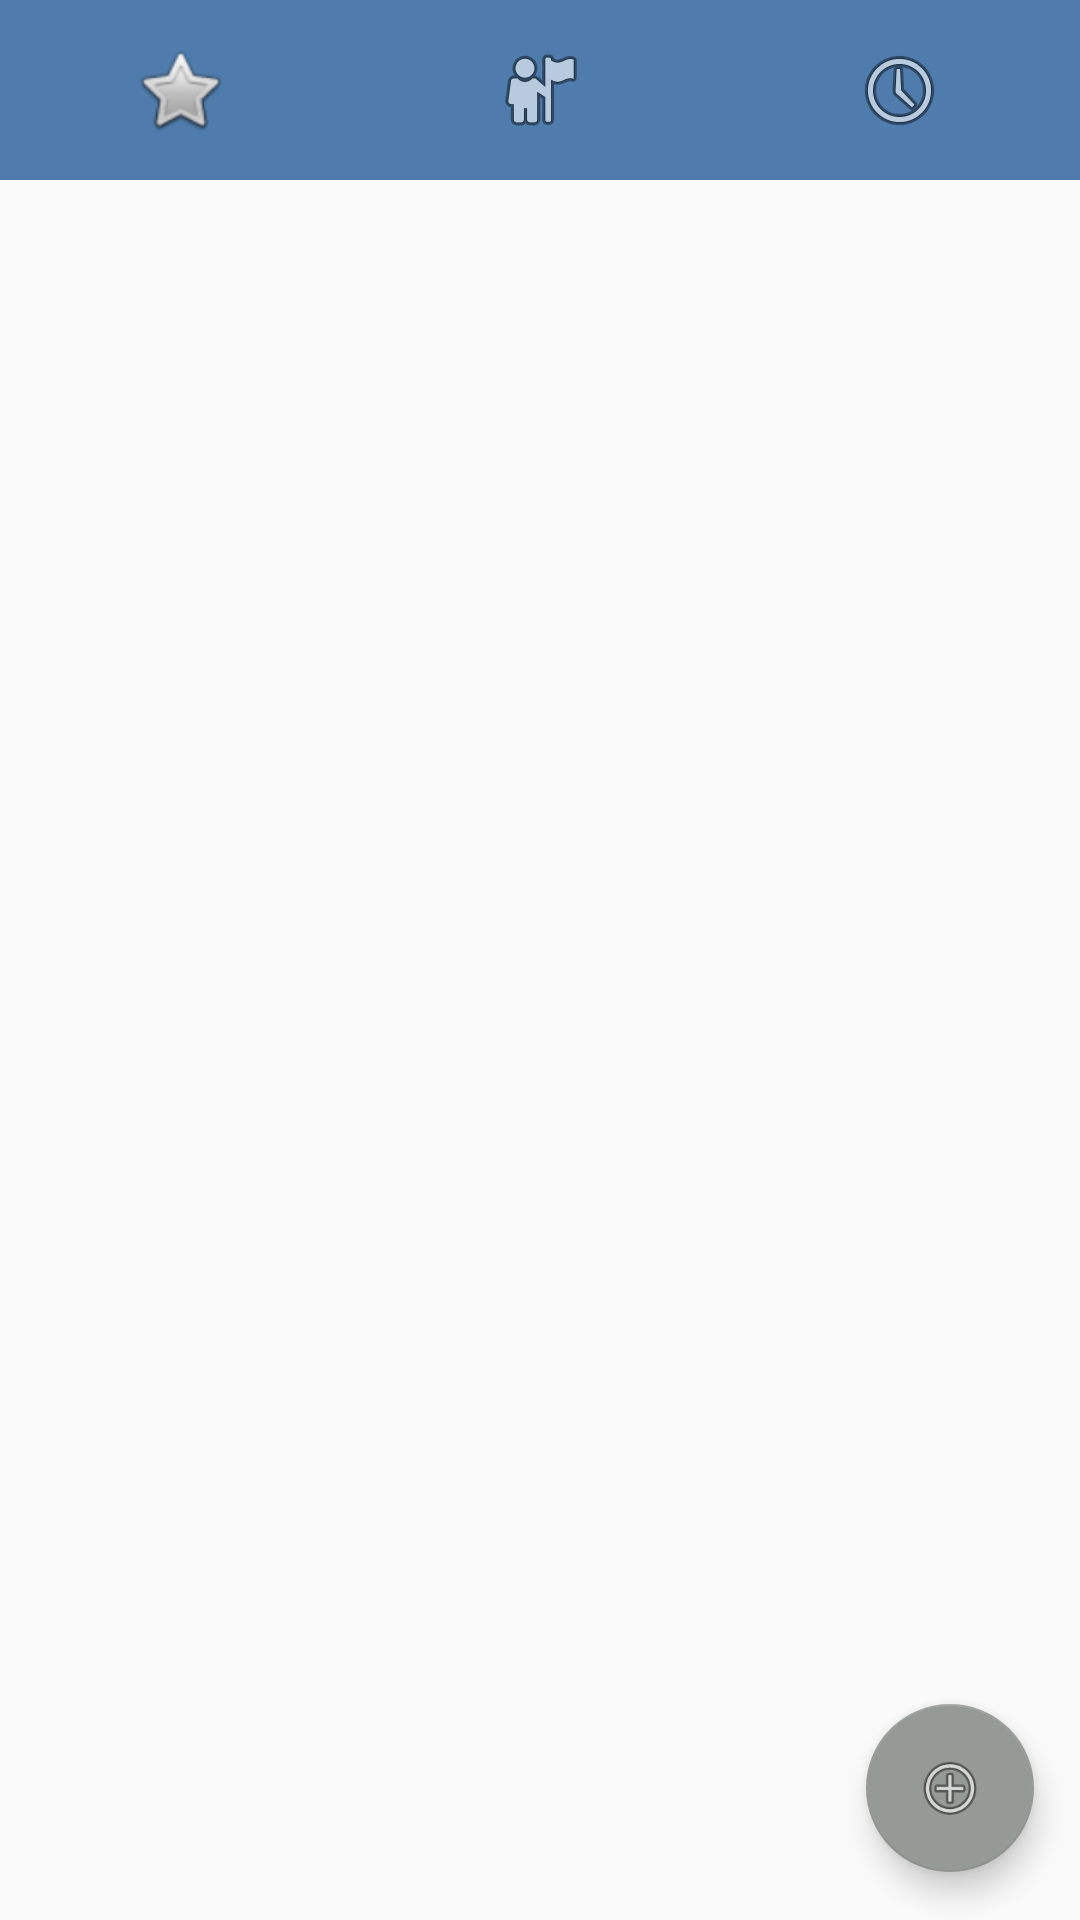

Where icons sit on this 1080w x 1920h app screen, as BBox(x1, y1, x2, y2):
add: BBox(866, 1704, 1034, 1872)
myplaces: BBox(505, 54, 577, 126)
recent history: BBox(865, 56, 934, 125)
star: BBox(141, 52, 221, 129)
